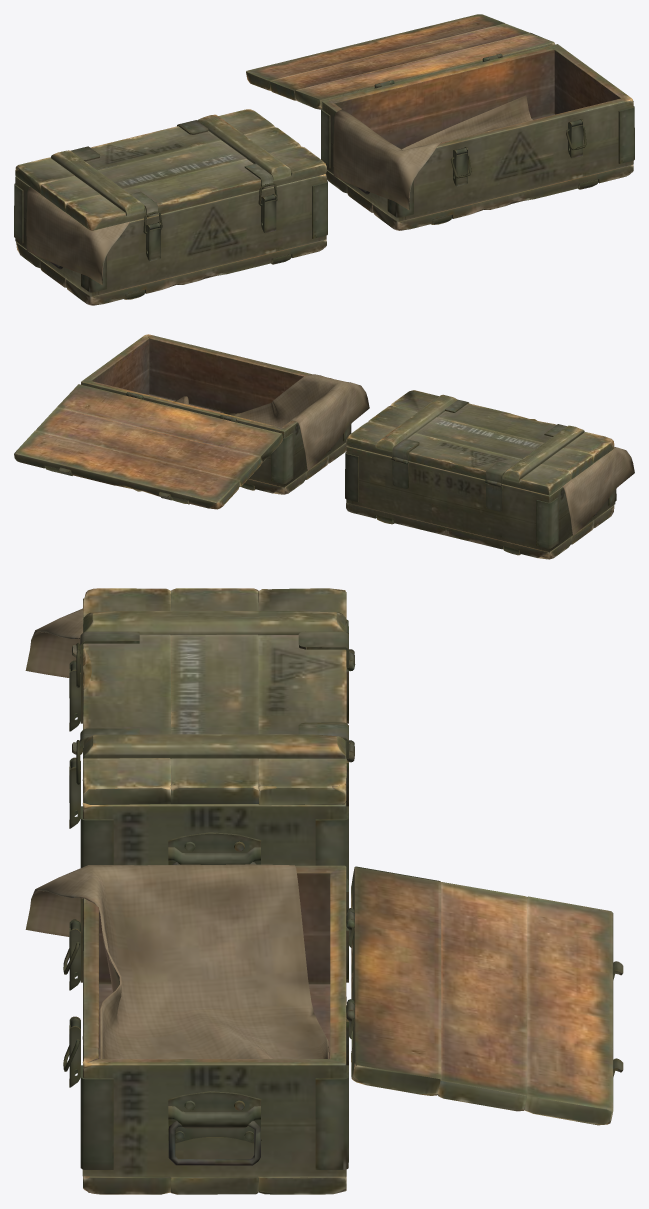
File: caixa_militar.glb
The picture shows the model from 3 angles, top to bottom: view 1: azimuth 30°, elevation 25°; view 2: azimuth 150°, elevation 25°; view 3: azimuth 270°, elevation 25°; orthographic projection. The views are drawn at different scales.
Visible parts, largest first — view 1: caixa_militar; view 2: caixa_militar; view 3: caixa_militar.
Part boxes in pixels (x1=…): caixa_militar: x1=14, y1=14, x2=634, y2=305; caixa_militar: x1=14, y1=334, x2=634, y2=559; caixa_militar: x1=25, y1=588, x2=623, y2=1194.
Size of the model in its own units: 1.82 by 0.3004 by 0.9756.
1 material, 1 textured.
